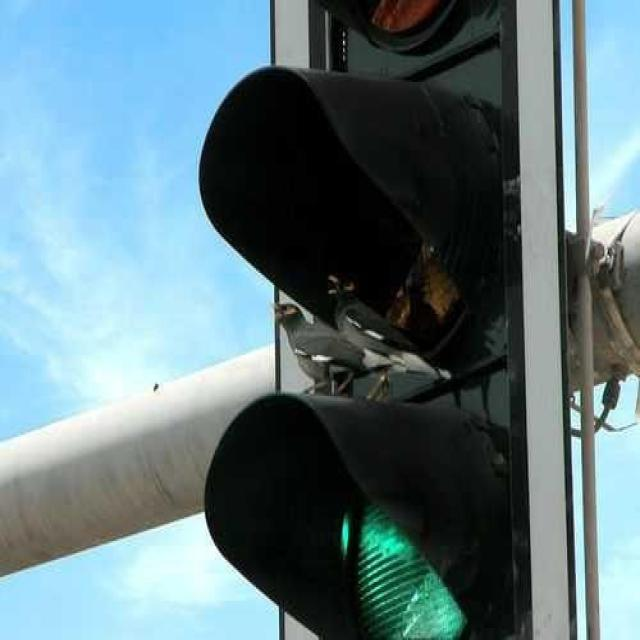Traffic Light -Green-: (201, 0, 582, 640)
